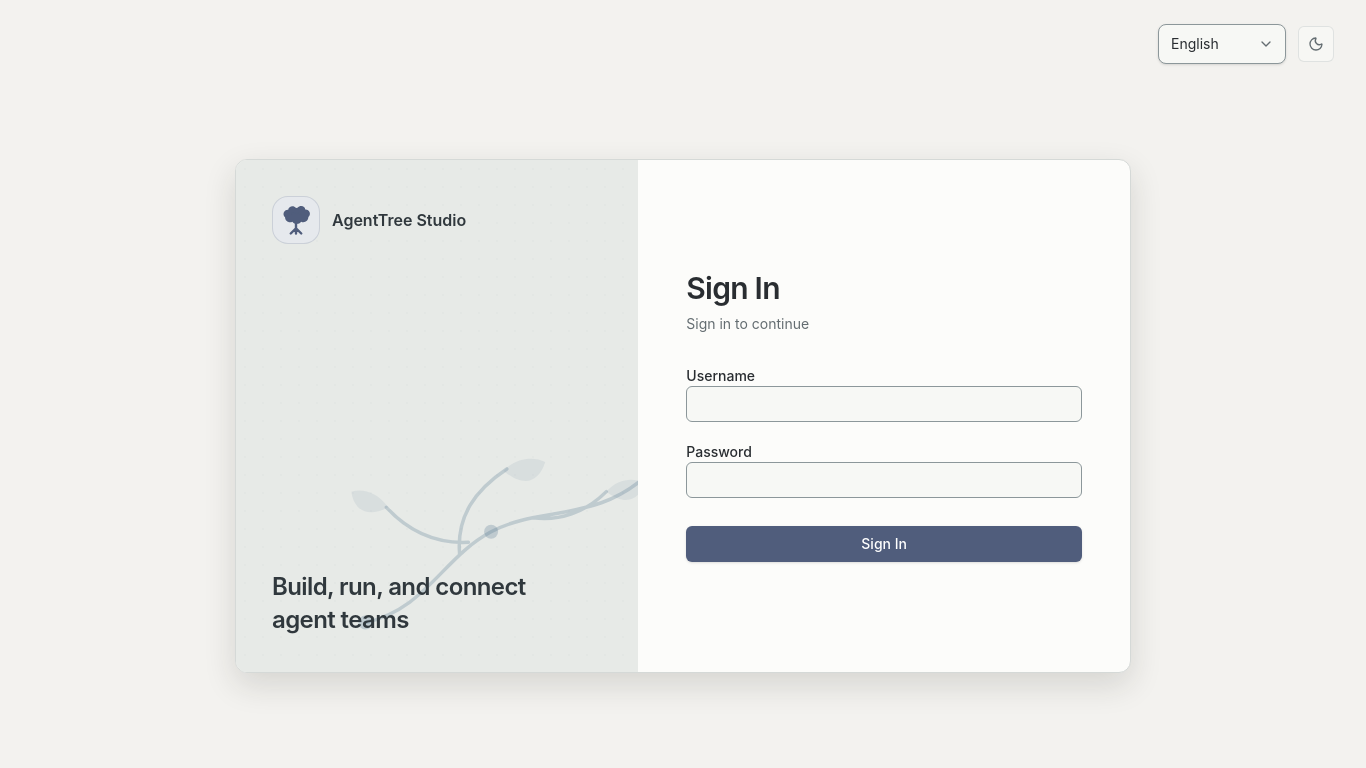
Test: Studio authentication UI › sends an unauthenticated visitor to Login and shows generic invalid credentials
This screenshot has width=1366, height=768.
Expected: the button "Sign In" is shown, [686, 526, 1082, 562]
Type "member" into the field labelled "Username".
click(884, 404); type("member")  # box [686, 386, 1082, 422]
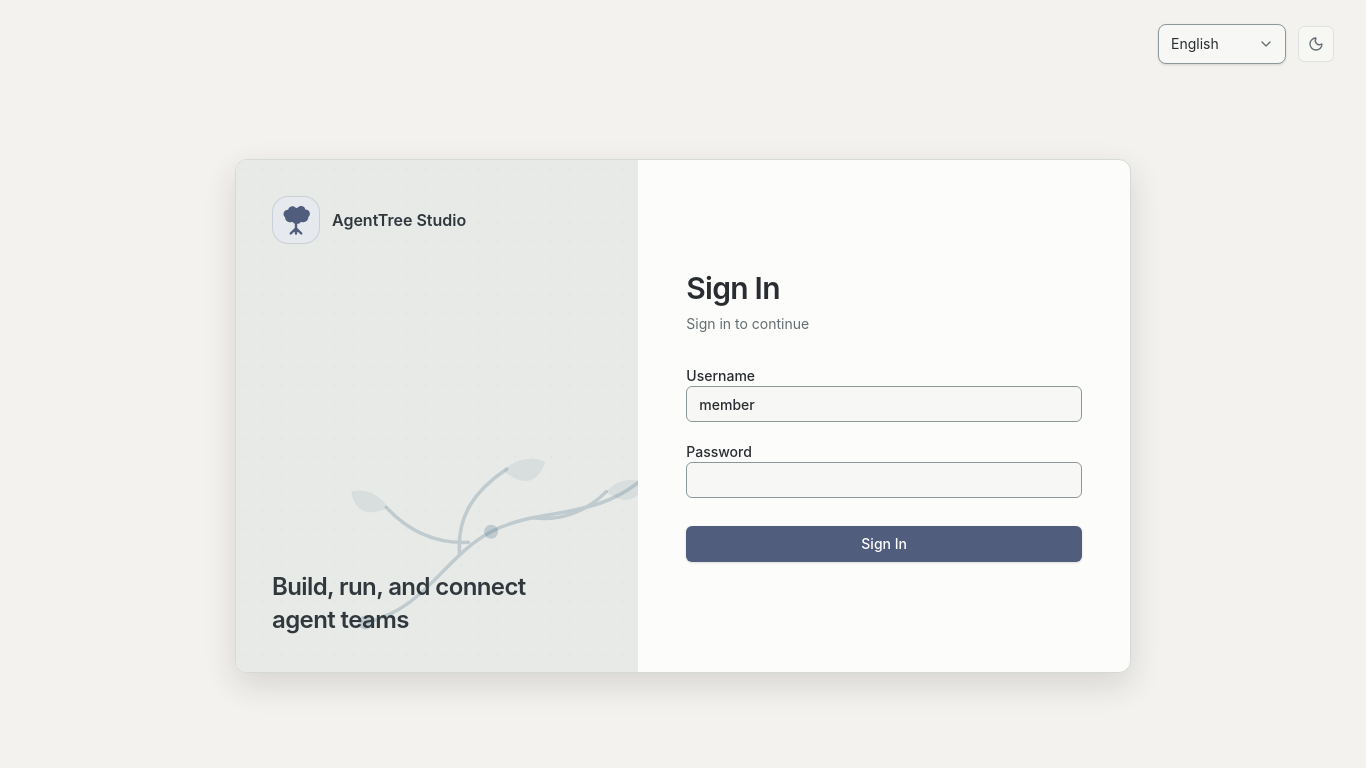
Type "wrong" into the password field labelled "Password".
click(884, 480); type("wrong")  # box [686, 462, 1082, 498]
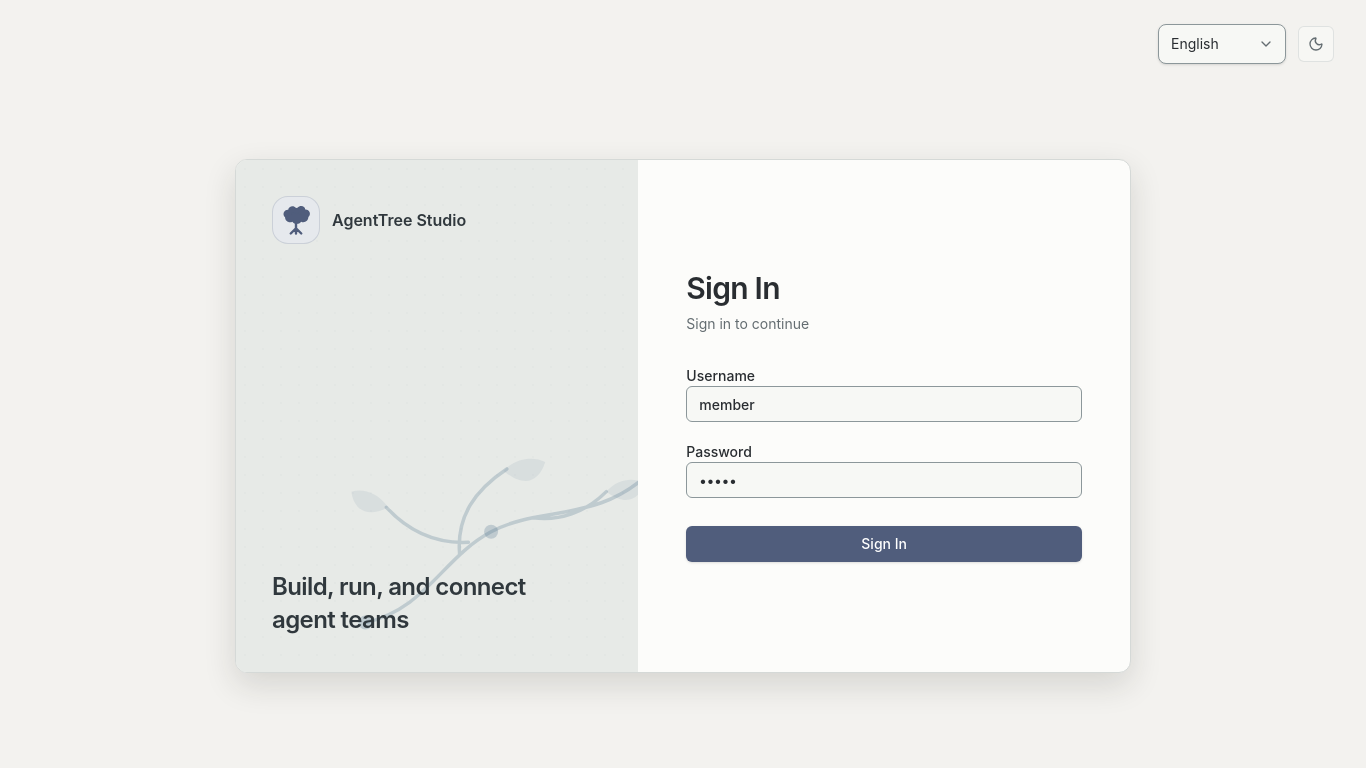
Click the button "Sign In".
click(884, 544)  # box [686, 526, 1082, 562]
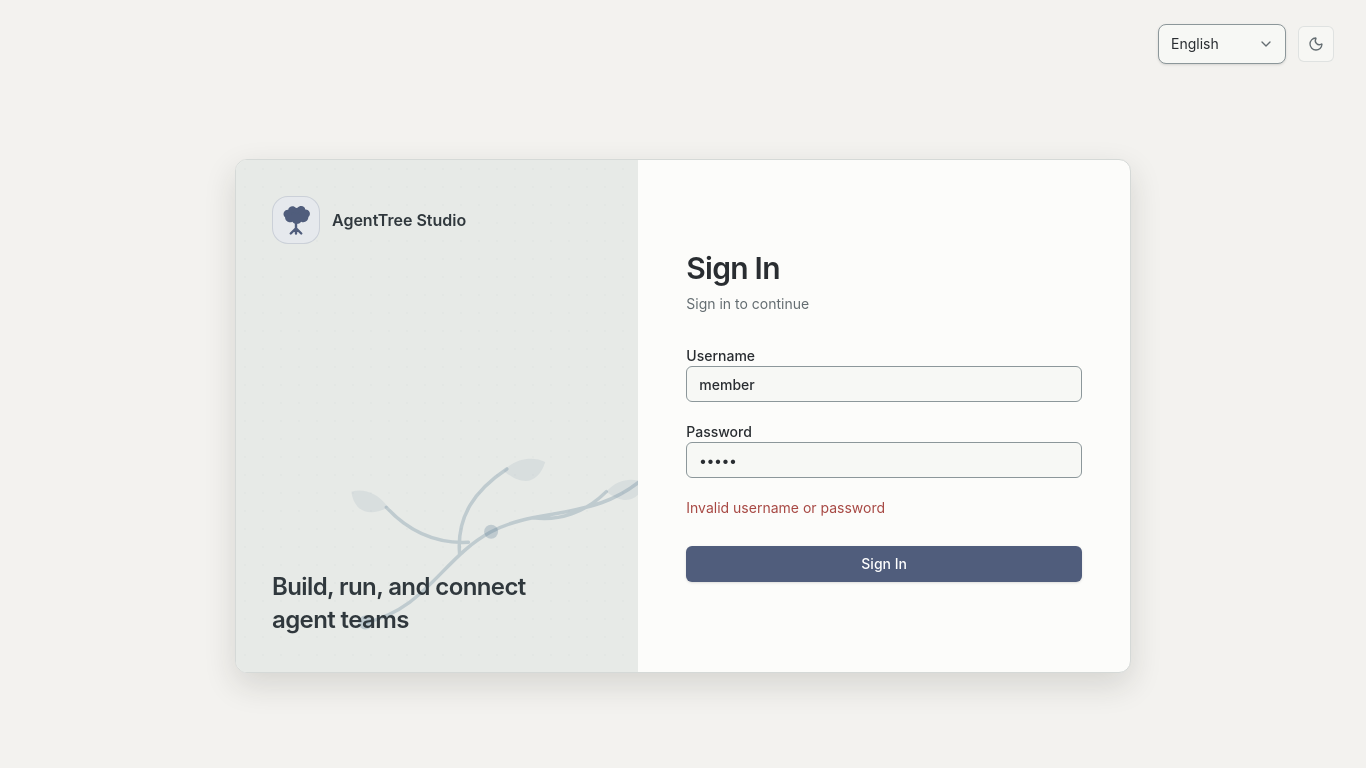
Now the message reads "Invalid username or password", box [686, 499, 885, 516]
